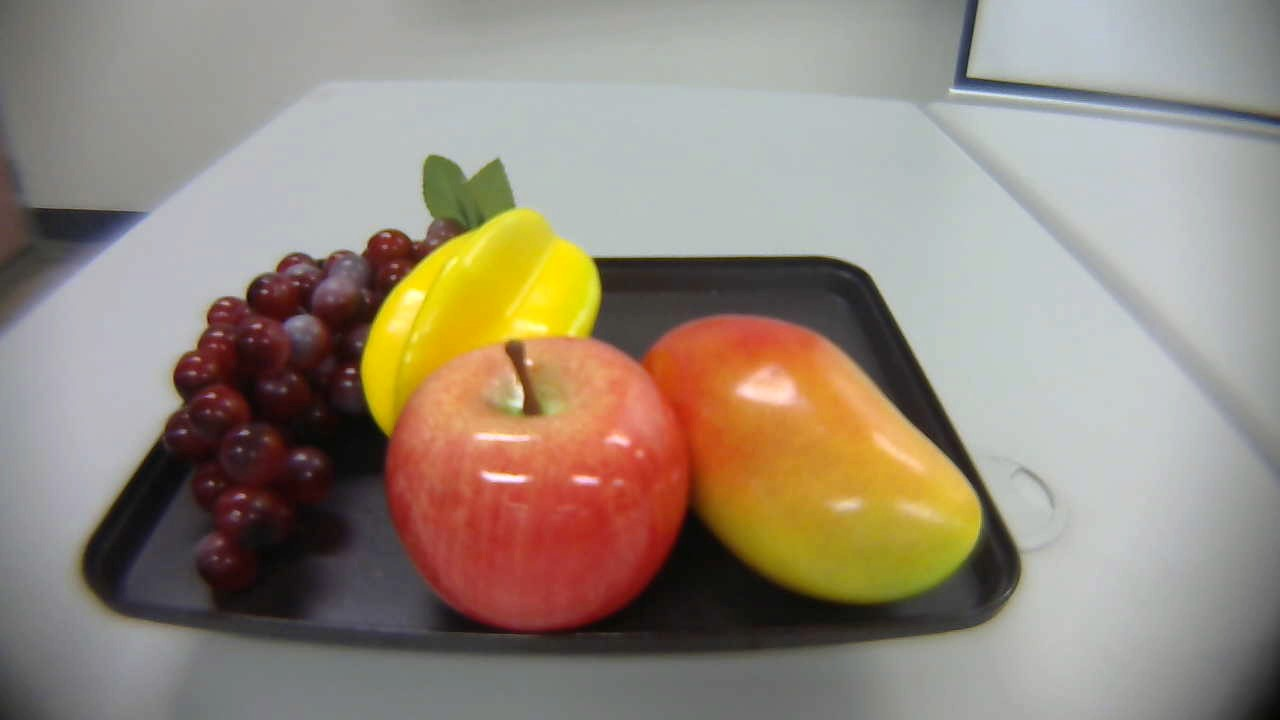grape: (157, 138, 507, 598)
red apple: (387, 333, 685, 624)
red mango: (635, 308, 990, 623)
star fruit: (355, 206, 612, 458)
